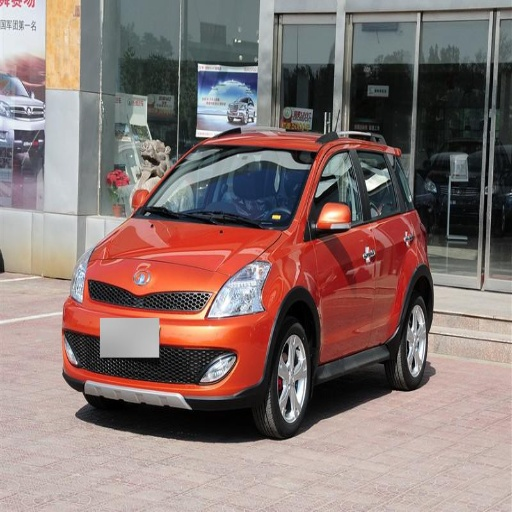back_left_door: (355, 145, 412, 342)
front_bumper: (70, 286, 277, 406)
front_glass: (133, 148, 314, 229)
front_left_door: (306, 143, 376, 360)
